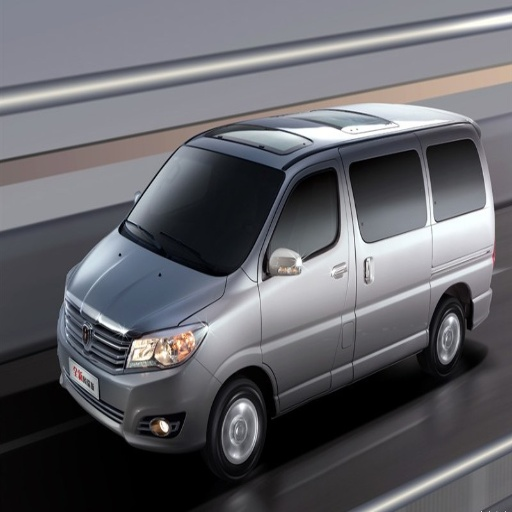front_bumper: (59, 306, 221, 449)
front_glass: (121, 148, 284, 274)
front_left_door: (262, 172, 331, 344)
front_left_light: (125, 322, 206, 369)
trunk: (397, 257, 478, 331)
